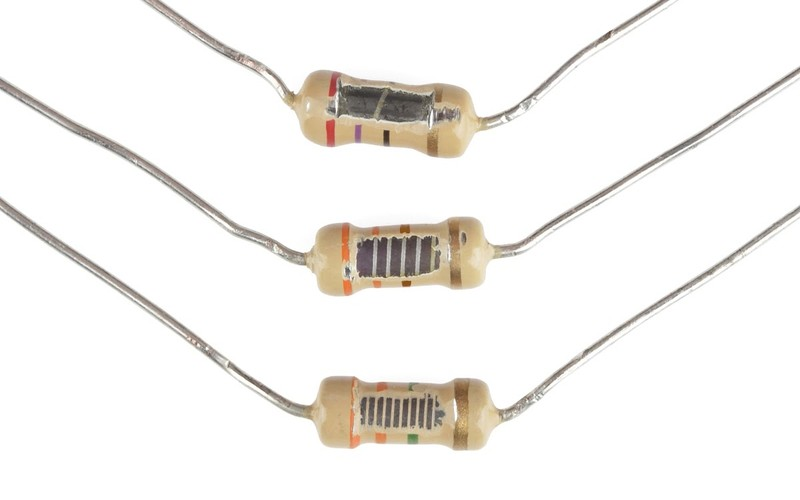Resistor: (247, 28, 497, 180), (275, 337, 498, 457), (279, 199, 492, 308)
